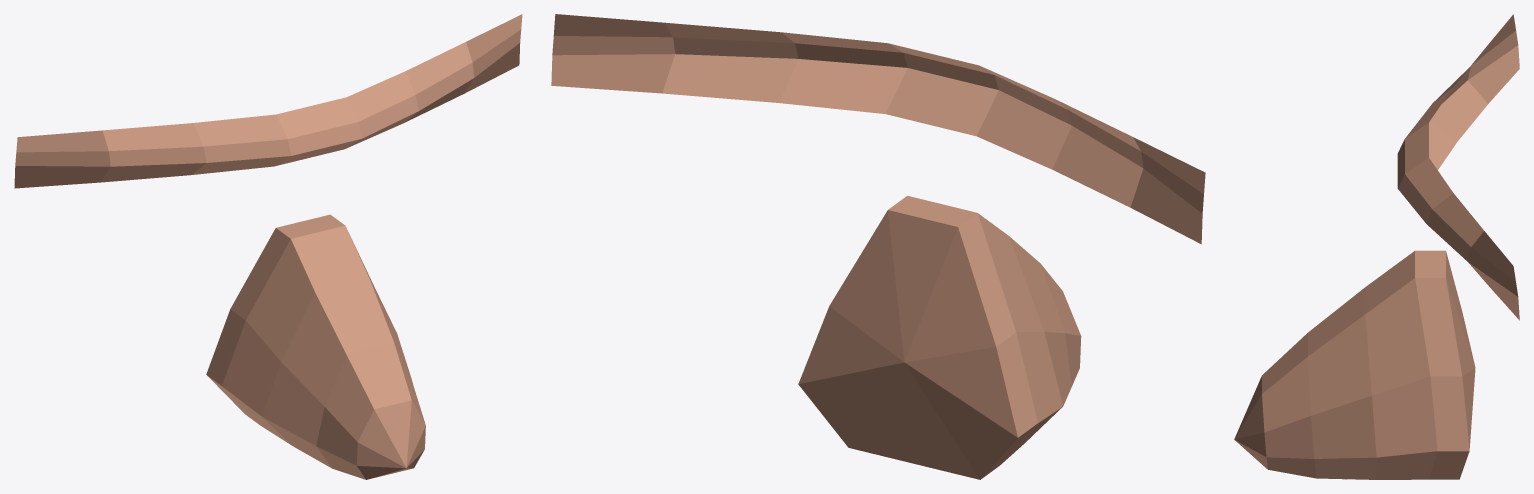
Rendered from nose_gb_long.glb.
The picture shows the model from 3 angles, left to right: view 1: azimuth 30°, elevation 25°; view 2: azimuth 150°, elevation 25°; view 3: azimuth 270°, elevation 25°; orthographic projection. The views are drawn at different scales.
Visible parts, largest first — view 1: Snout; view 2: Snout; view 3: Snout.
Part boxes in pixels (left/top/right/bottom): Snout: left=14, top=14, right=522, bottom=479; Snout: left=551, top=14, right=1205, bottom=479; Snout: left=1234, top=14, right=1519, bottom=479.
Size of the model in its own units: 0.148 by 0.0881 by 0.0709.
1 material, 1 textured.
